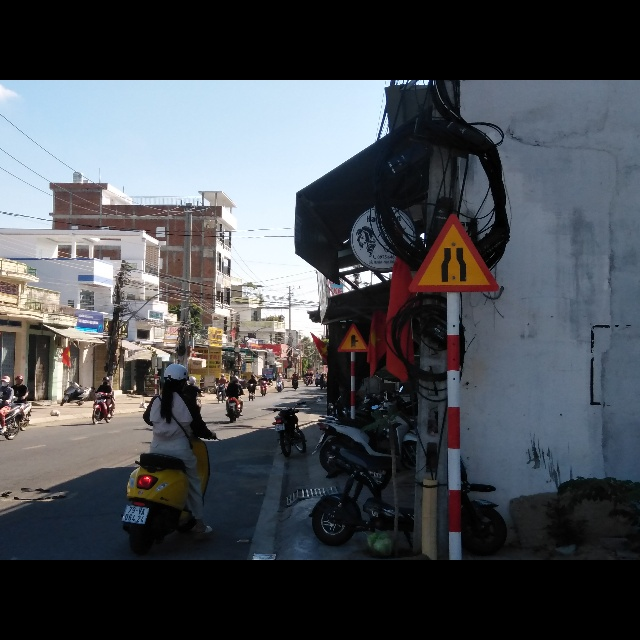Giao nhau với đường không ưu tiên: (337, 325, 370, 353)
Đường bị hẹp cả hai bên: (410, 212, 499, 295)
